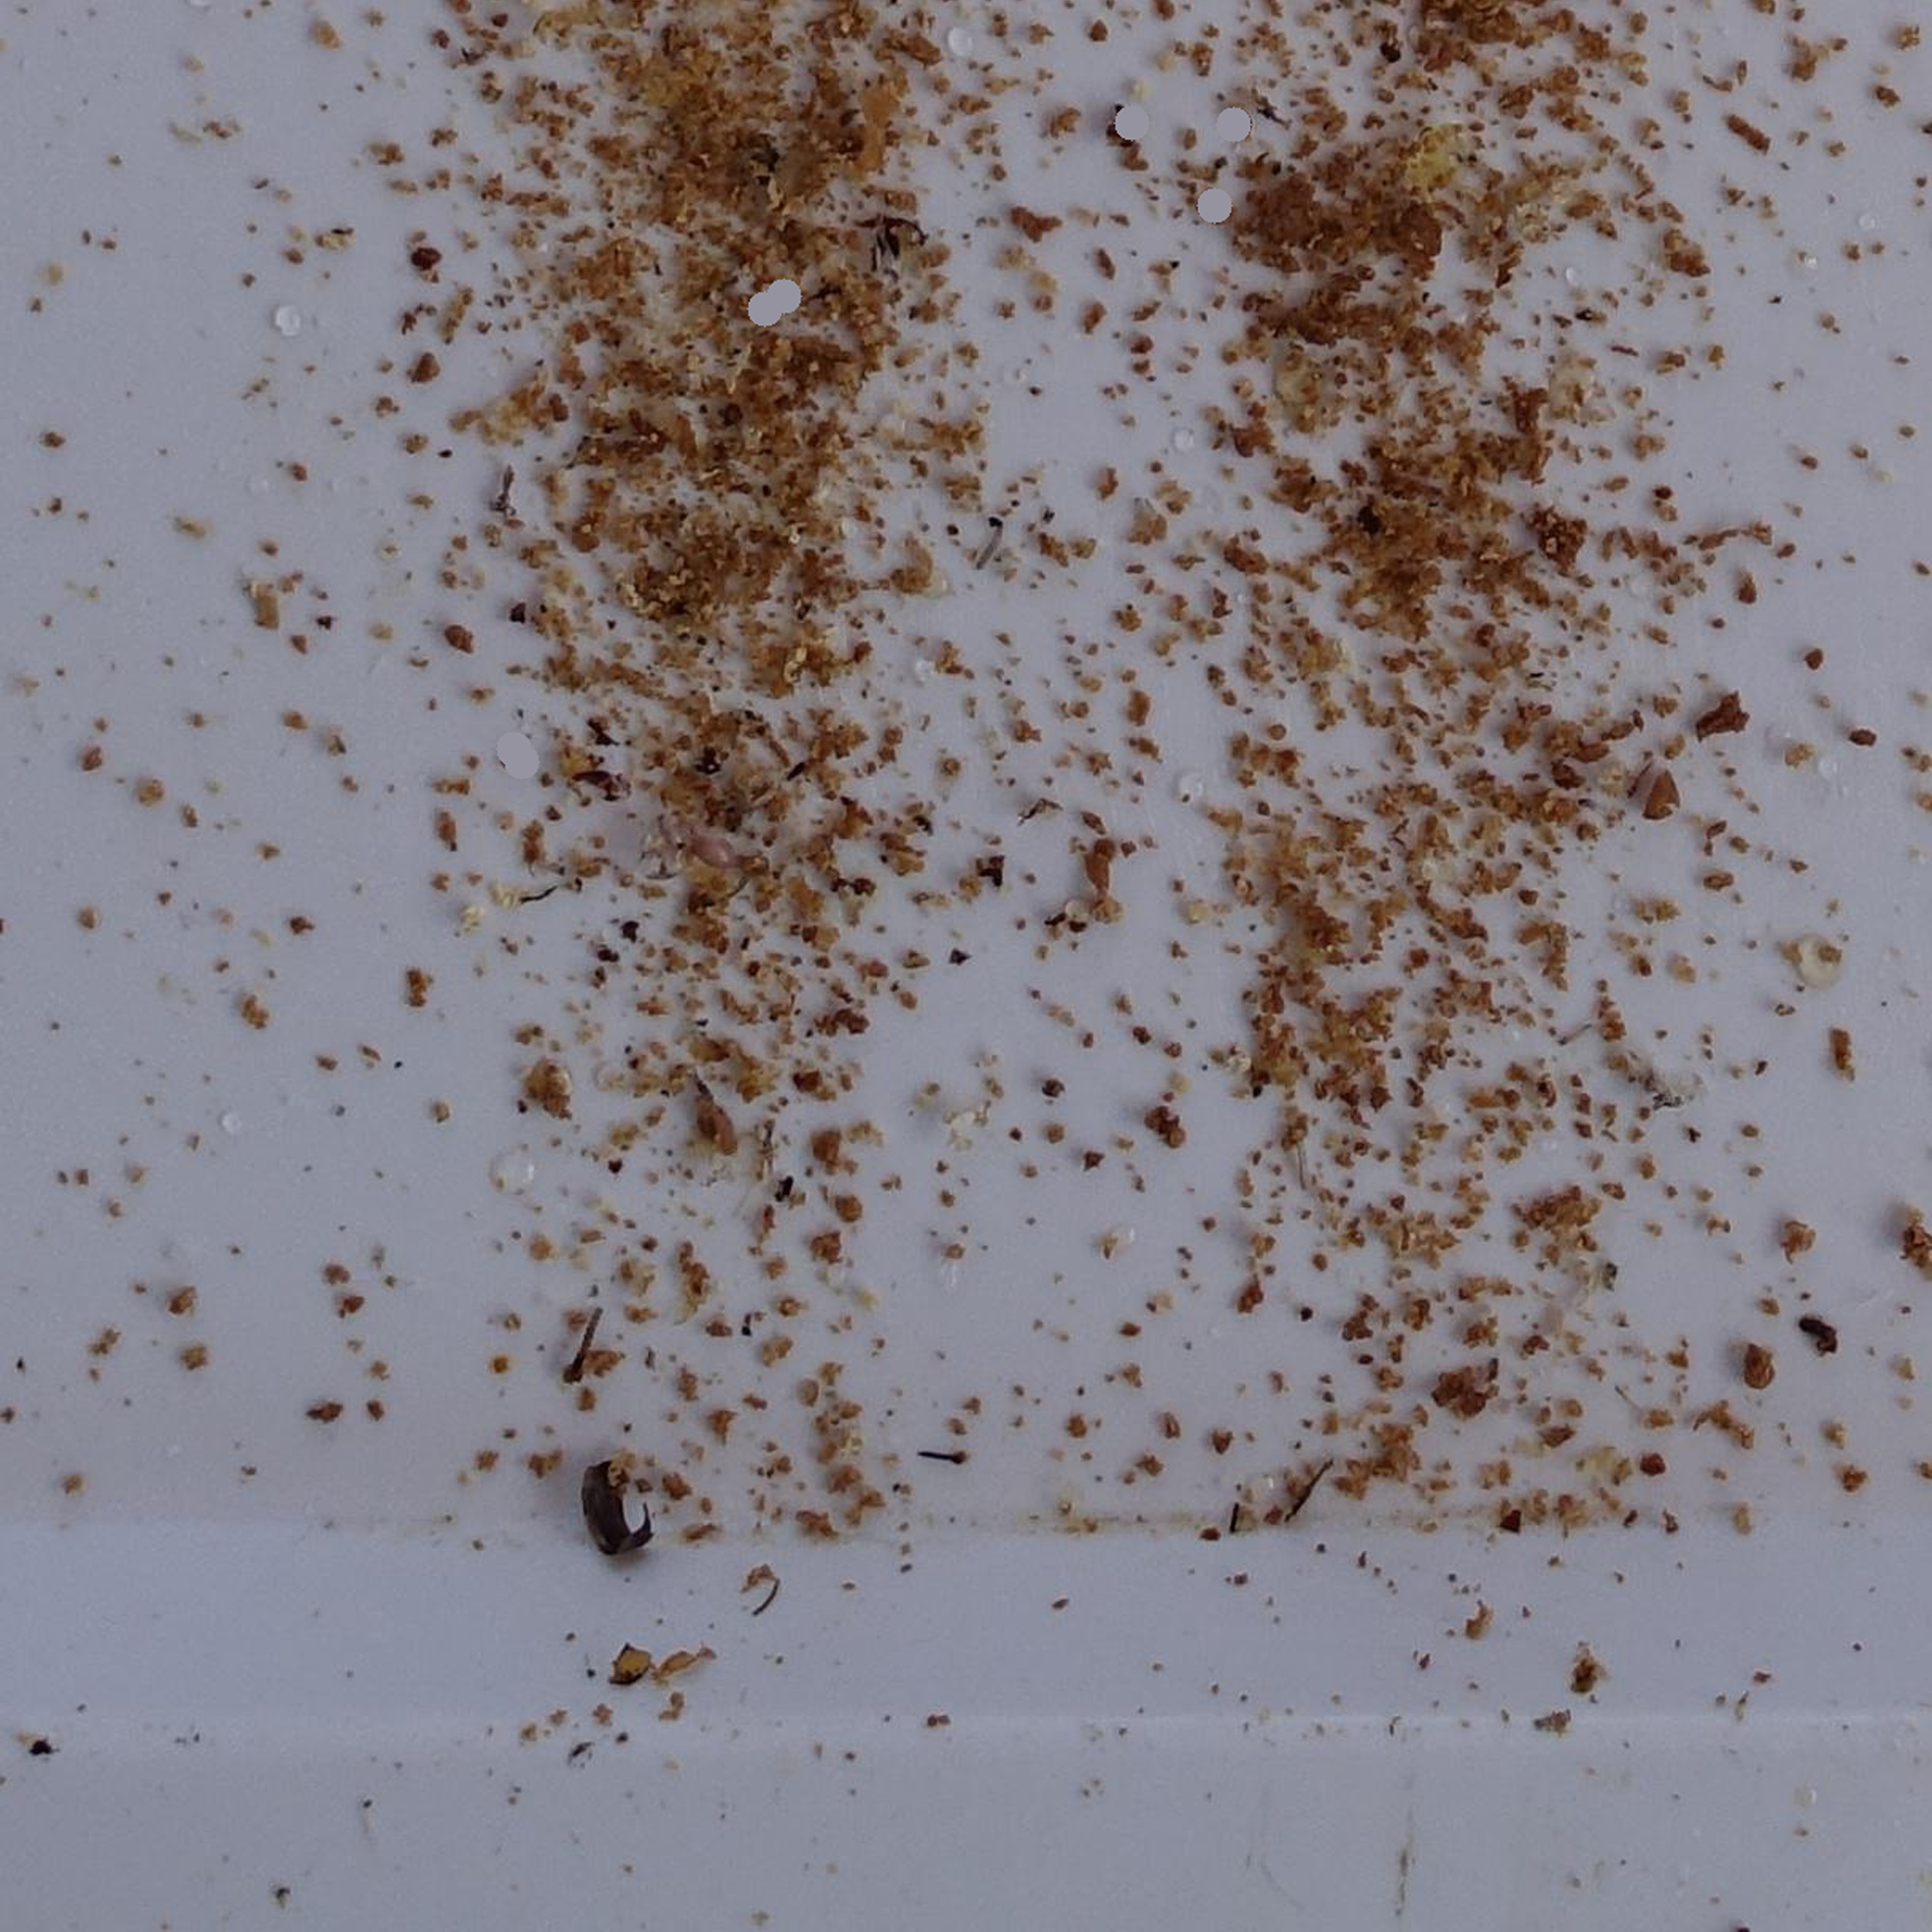Varroa: (1346, 497, 1391, 541), (410, 244, 439, 272)
